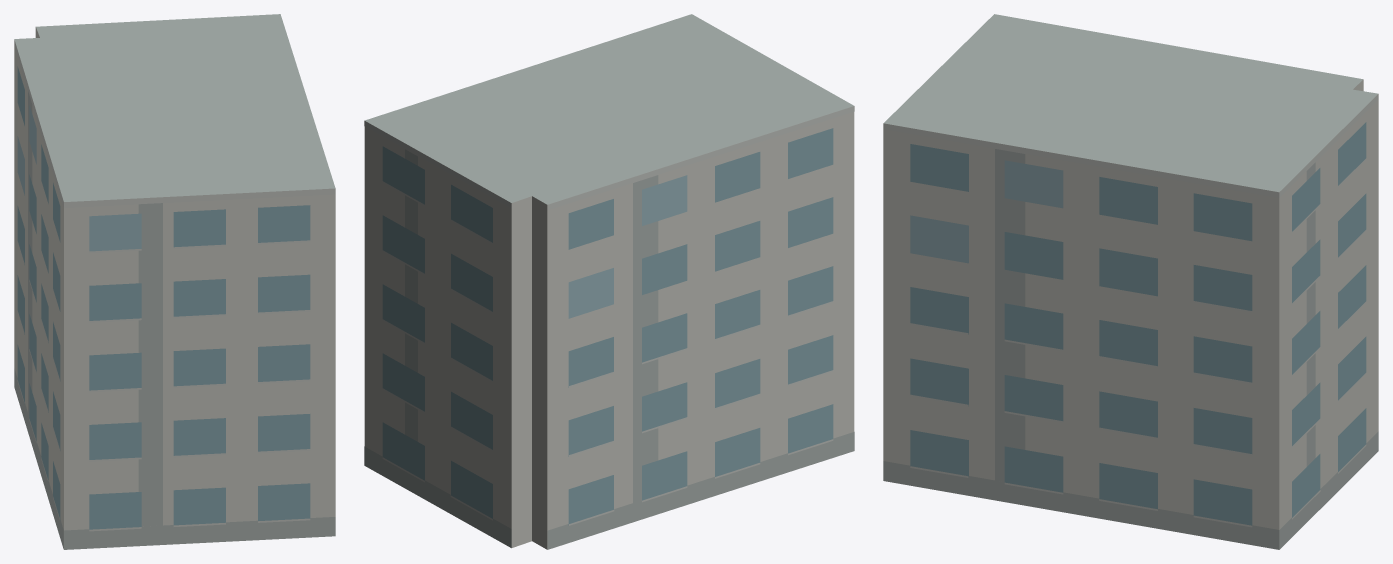
Rendered from survey-upis-32887692.glb.
3 renders of one model, left to right at view 1: azimuth 30°, elevation 25°; view 2: azimuth 150°, elevation 25°; view 3: azimuth 270°, elevation 25°, orthographic. The views are drawn at different scales.
Visible parts, largest first — view 1: survey-upis-32887692.tmp; view 2: survey-upis-32887692.tmp; view 3: survey-upis-32887692.tmp.
Boxes of the visible parts, <box> form: survey-upis-32887692.tmp: <box>14,14,335,549</box>; survey-upis-32887692.tmp: <box>364,14,854,549</box>; survey-upis-32887692.tmp: <box>883,14,1378,549</box>.
Size of the model in its own units: 15.4 by 14.4 by 18.08.
